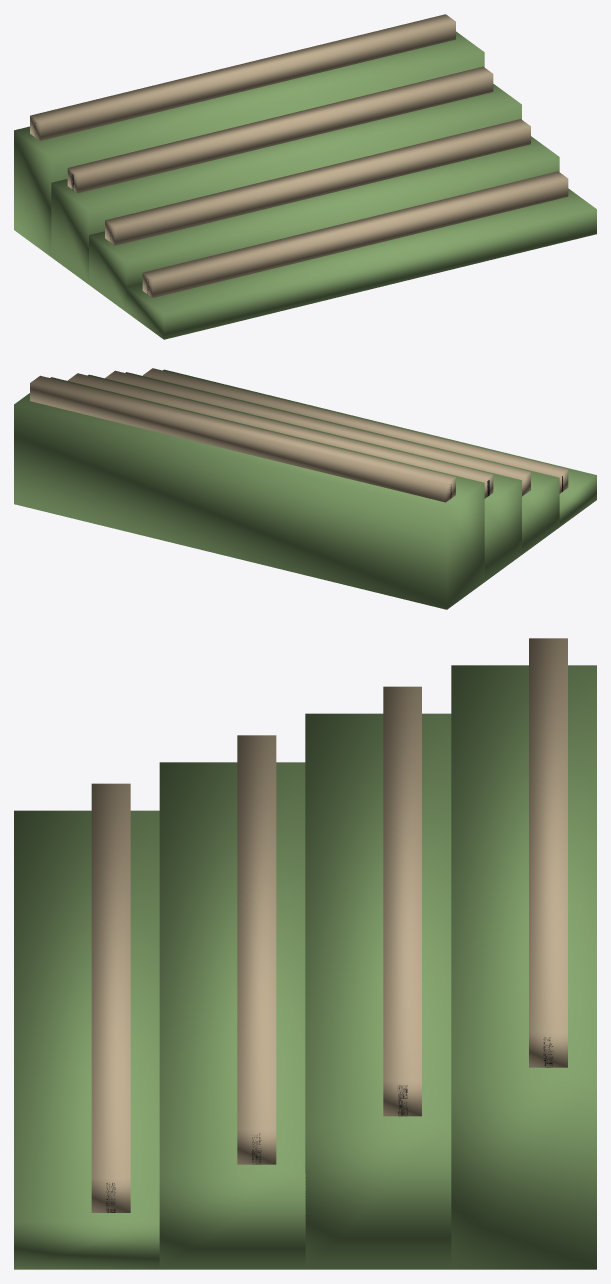
Rendered from banking_seats.glb.
The picture shows the model from 3 angles, top to bottom: view 1: azimuth 30°, elevation 25°; view 2: azimuth 150°, elevation 25°; view 3: azimuth 270°, elevation 25°; orthographic projection. The views are drawn at different scales.
Visible parts, largest first — view 1: banking_seats; view 2: banking_seats; view 3: banking_seats.
Part boxes in pixels (<box>): banking_seats: <box>14,14,596,339</box>; banking_seats: <box>14,368,596,609</box>; banking_seats: <box>14,638,596,1269</box>.
Size of the model in its own units: 10 by 2.6 by 6.
Materials: 3 (1 with a texture image).
